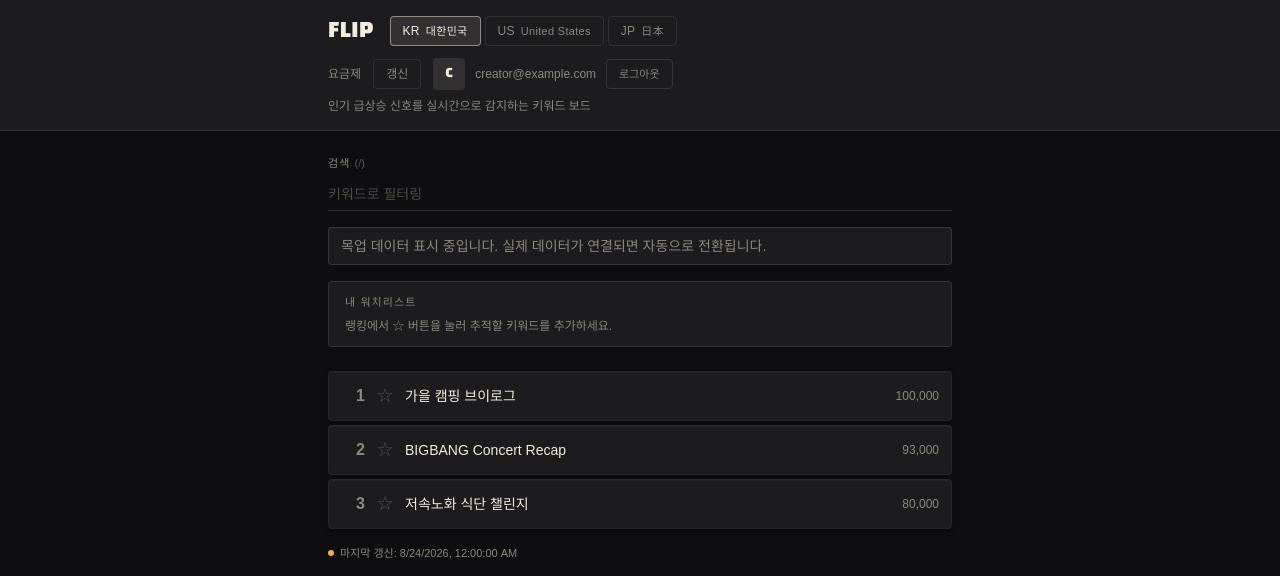
Test: Home dashboard › keyword search/filter › keeps the watchlist star toggle working for a keyword hidden by the active filter
Expected: the button "가을 캠핑 브이로그" is shown, x1=405 y1=382 x2=884 y2=410
Type "캠핑" into the field labelled "검색 (/)" at (640, 194), box x1=328 y1=178 x2=952 y2=210
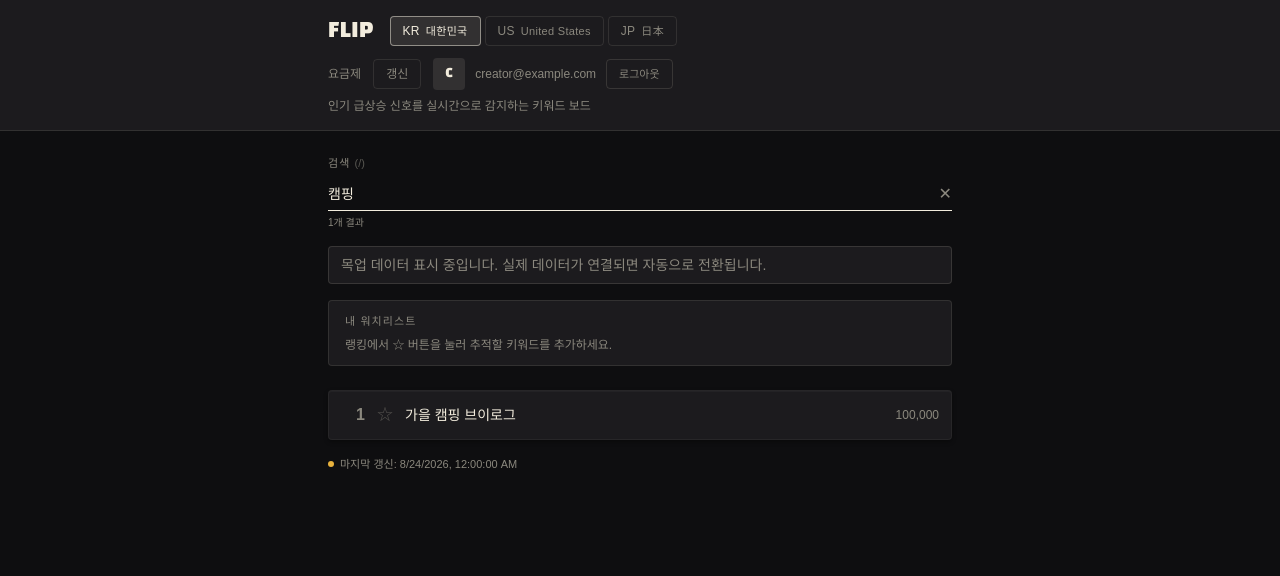
Click the button named "워치리스트에 추가" at (385, 415), box x1=373 y1=403 x2=397 y2=427
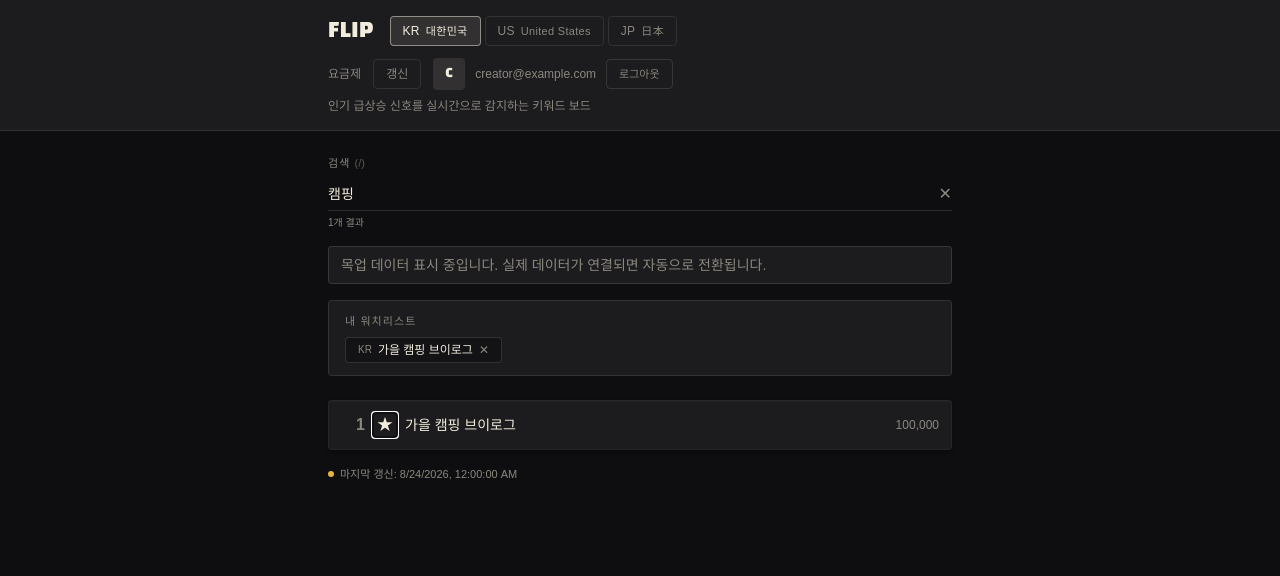
Expected: the button named "워치리스트에서 제거" is shown, x1=373 y1=413 x2=397 y2=437
